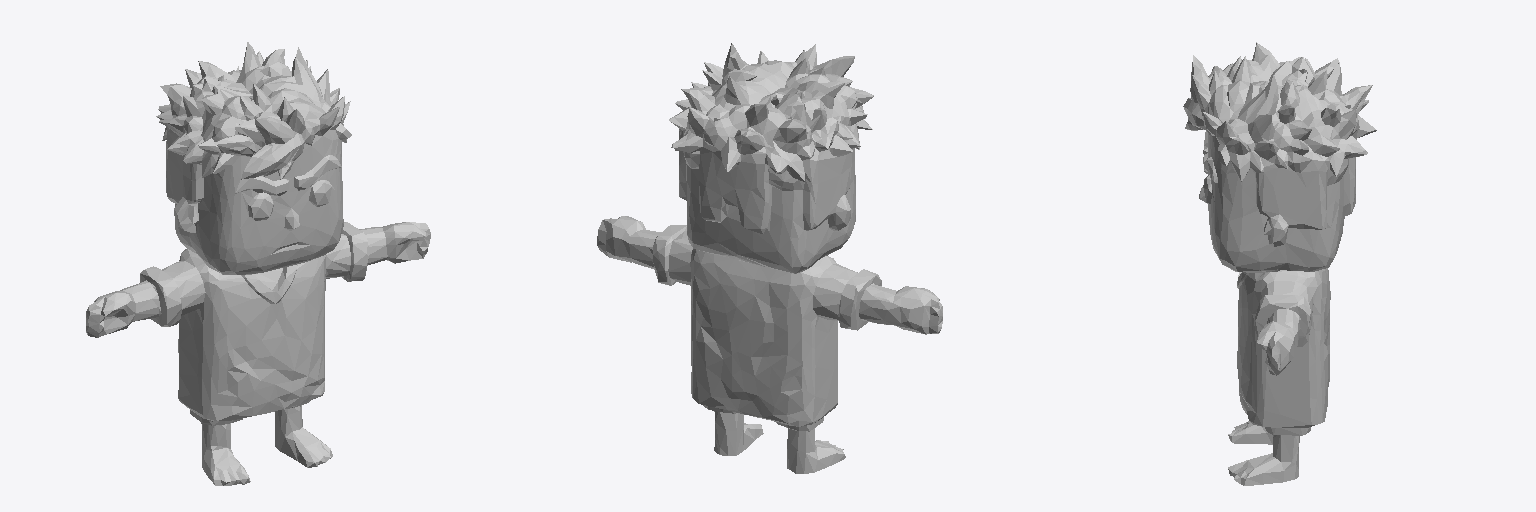
Rendered from Pixel_Standoff_1018185456_texture.obj.
The picture shows the model from 3 angles: view 1: azimuth 30°, elevation 25°; view 2: azimuth 150°, elevation 25°; view 3: azimuth 270°, elevation 25°; orthographic projection.
Visible parts, largest first — view 1: Pixel_Standoff_[number redacted]_texture; view 2: Pixel_Standoff_[number redacted]_texture; view 3: Pixel_Standoff_[number redacted]_texture.
Part boxes in pixels (bbox=[...]): Pixel_Standoff_[number redacted]_texture: bbox=[86, 42, 430, 485]; Pixel_Standoff_[number redacted]_texture: bbox=[597, 43, 942, 473]; Pixel_Standoff_[number redacted]_texture: bbox=[1183, 42, 1376, 485].
Size of the model in its own units: 1.73 by 1.94 by 0.8443.